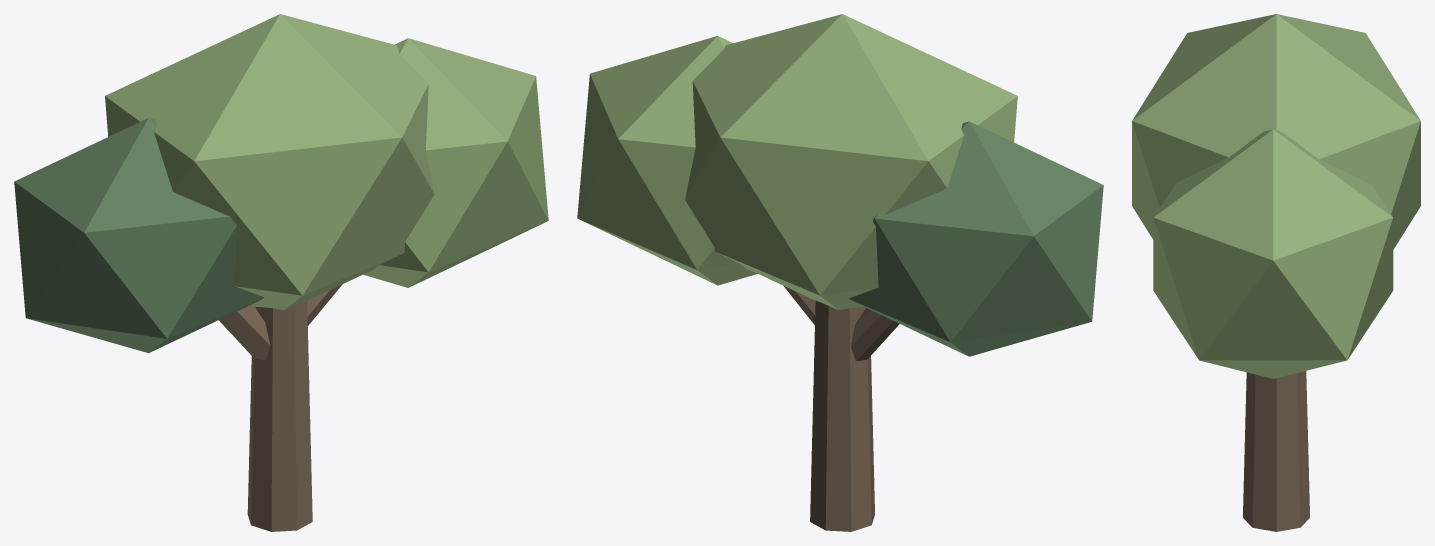
The picture shows the model from 3 angles, left to right: view 1: azimuth 30°, elevation 25°; view 2: azimuth 150°, elevation 25°; view 3: azimuth 270°, elevation 25°; orthographic projection.
Parts seen in each view (by area): view 1: campus_tree_spreading_bare; view 2: campus_tree_spreading_bare; view 3: campus_tree_spreading_bare.
Part boxes in pixels (x1,y1,x2,y2): campus_tree_spreading_bare: [14, 14, 548, 531]; campus_tree_spreading_bare: [577, 14, 1103, 531]; campus_tree_spreading_bare: [1132, 14, 1420, 531].
Bounding box in the file's own units: 3.65 × 3.47 × 1.8.
1 material, 1 textured.
